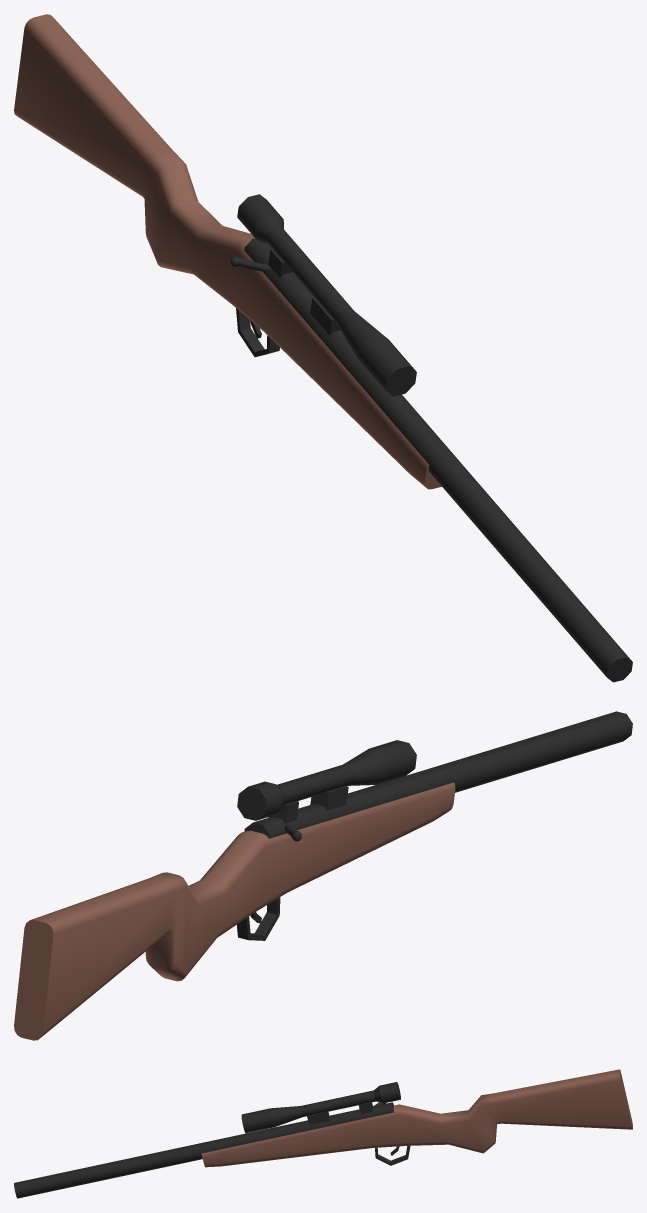
3 renders of one model, top to bottom at view 1: azimuth 30°, elevation 25°; view 2: azimuth 150°, elevation 25°; view 3: azimuth 270°, elevation 25°, orthographic. The views are drawn at different scales.
Parts seen in each view (by area): view 1: M40_Body_32; view 2: M40_Body_32; view 3: M40_Body_32.
Part boxes in pixels (x1,y1,x2,y2): M40_Body_32: (14,14,632,682); M40_Body_32: (14,711,632,1040); M40_Body_32: (14,1069,632,1198).
Bounding box in the file's own units: 0.1134 × 0.5249 × 2.34.
